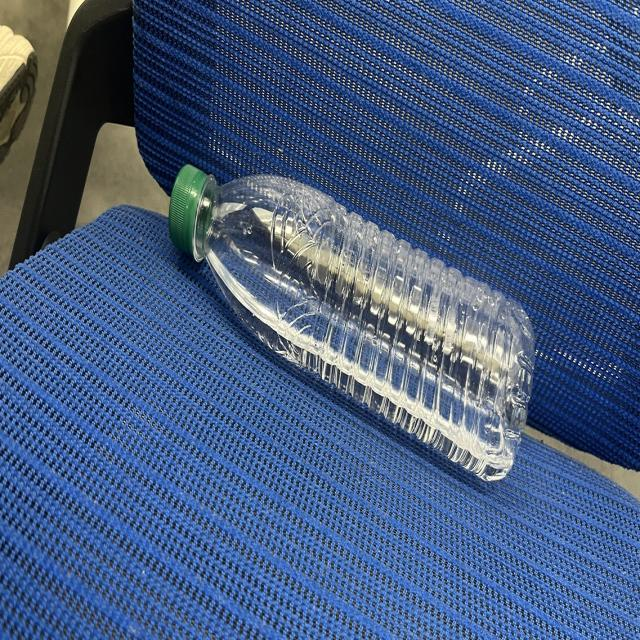medium: (169, 165, 534, 479)
